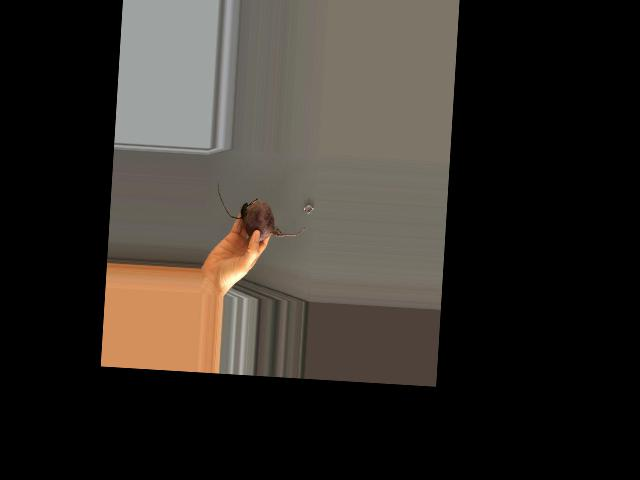beet: (214, 182, 308, 243)
